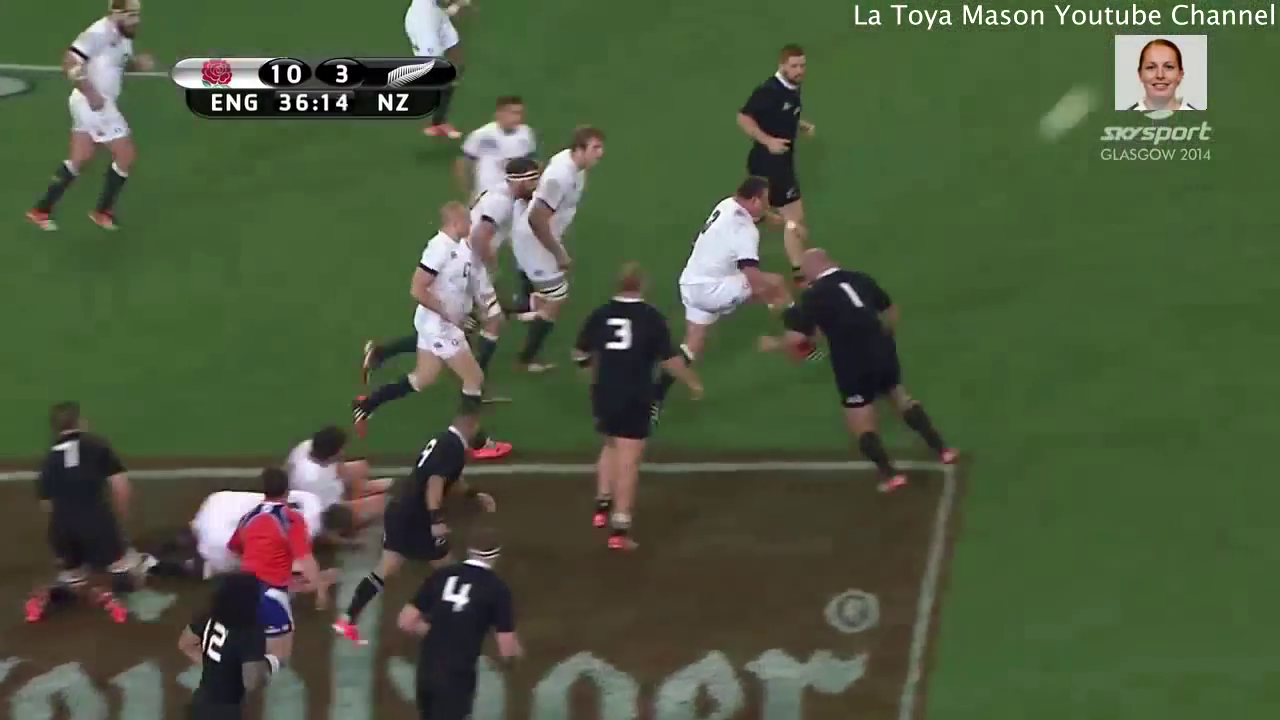player: (750, 240, 965, 504), (341, 188, 525, 467), (333, 143, 542, 377), (637, 156, 792, 441), (318, 401, 491, 656), (569, 253, 706, 560), (10, 1, 165, 248), (13, 389, 137, 634), (205, 464, 319, 712), (390, 517, 526, 720), (725, 34, 824, 311), (511, 117, 613, 379), (127, 471, 383, 564), (255, 404, 407, 539), (177, 567, 269, 720), (445, 80, 542, 208), (396, 1, 475, 148)
